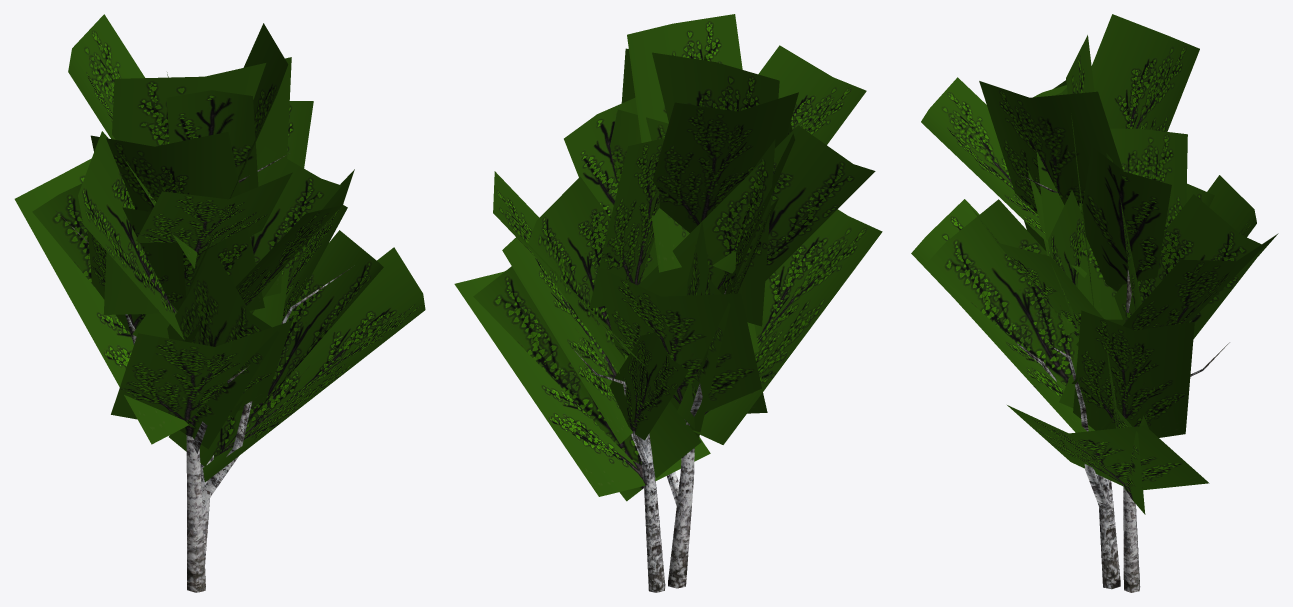
File: nf_tree.glb
The picture shows the model from 3 angles, left to right: view 1: azimuth 30°, elevation 25°; view 2: azimuth 150°, elevation 25°; view 3: azimuth 270°, elevation 25°; orthographic projection. The views are drawn at different scales.
Visible parts, largest first — view 1: Cylinder01; view 2: Cylinder01; view 3: Cylinder01.
Part boxes in pixels (x1=…): Cylinder01: x1=14, y1=14, x2=425, y2=592; Cylinder01: x1=454, y1=14, x2=882, y2=592; Cylinder01: x1=911, y1=14, x2=1278, y2=592.
Size of the model in its own units: 241 by 340 by 218.
1 material, 1 textured.
